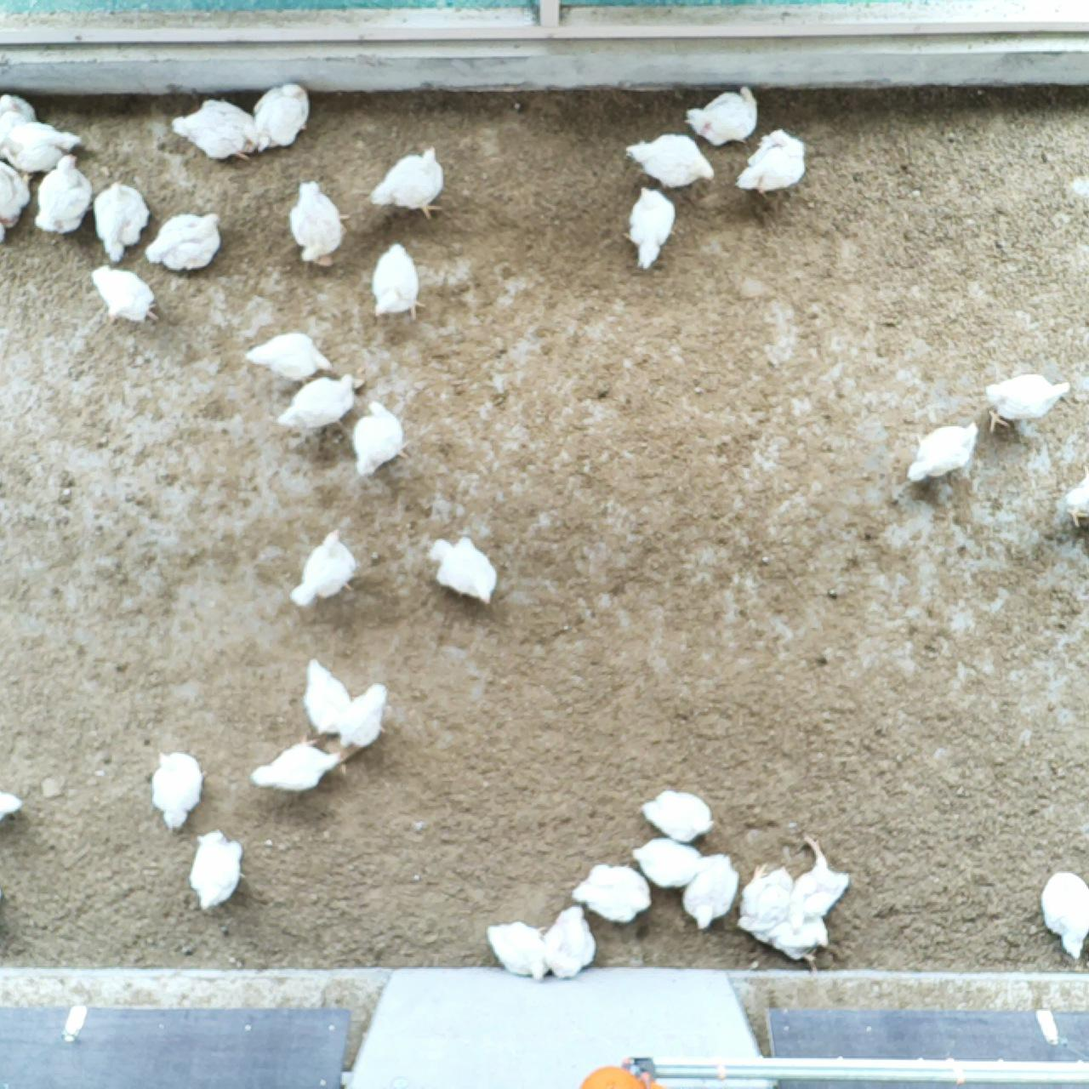chicken: (784, 832, 858, 937), (365, 143, 450, 224), (274, 369, 365, 440), (979, 370, 1075, 436), (285, 173, 353, 265), (288, 524, 359, 612), (248, 731, 345, 794), (569, 859, 655, 930), (622, 128, 717, 192), (168, 96, 258, 162), (683, 81, 764, 152), (347, 396, 415, 480), (424, 534, 500, 609), (904, 419, 983, 490), (146, 745, 208, 835), (90, 179, 153, 265), (734, 125, 810, 196), (143, 208, 226, 273), (34, 152, 96, 239), (366, 240, 429, 325), (621, 182, 678, 272), (246, 330, 335, 387), (757, 909, 835, 974), (542, 900, 602, 983), (187, 829, 246, 912), (89, 261, 161, 329), (638, 785, 719, 843), (679, 851, 736, 933), (1039, 869, 1089, 961), (0, 121, 83, 176), (483, 918, 553, 982), (252, 79, 314, 151), (628, 834, 706, 891), (300, 651, 350, 737), (341, 680, 394, 754), (737, 861, 791, 930), (0, 158, 39, 234), (1058, 460, 1089, 535), (0, 93, 35, 157)
